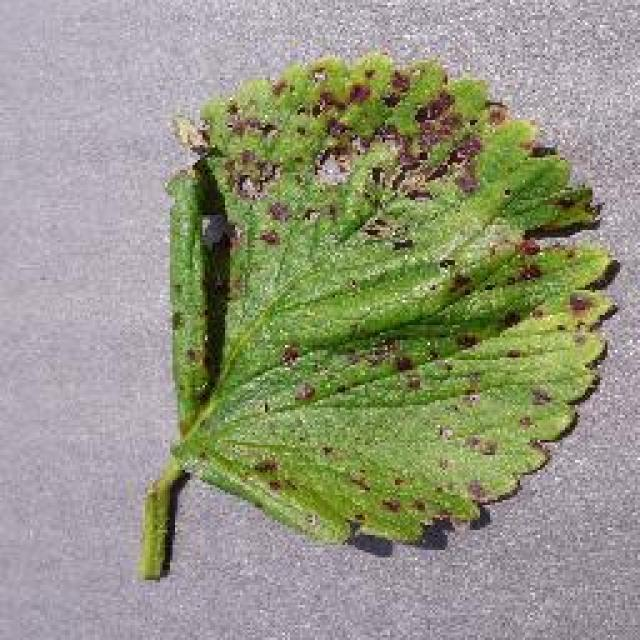Strawberry___Leaf_scorch: (132, 25, 628, 597)
